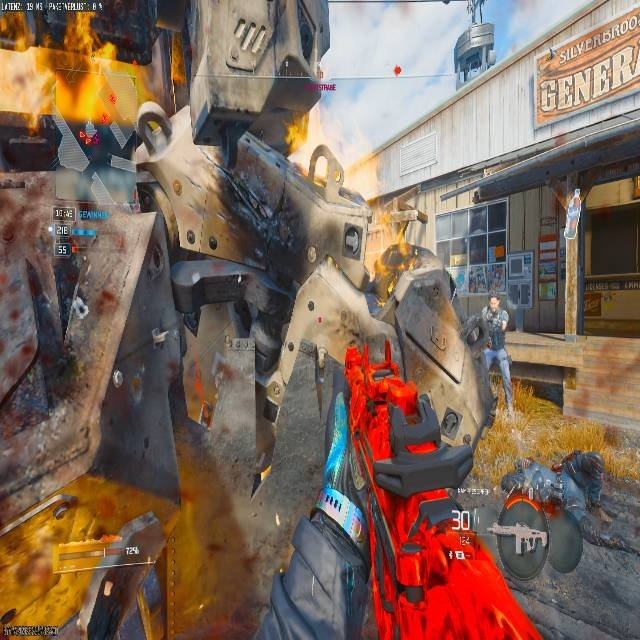head: (481, 296, 500, 315), (488, 296, 500, 310)
player: (0, 4, 178, 484), (282, 217, 480, 639), (464, 296, 514, 417), (450, 11, 496, 85)
